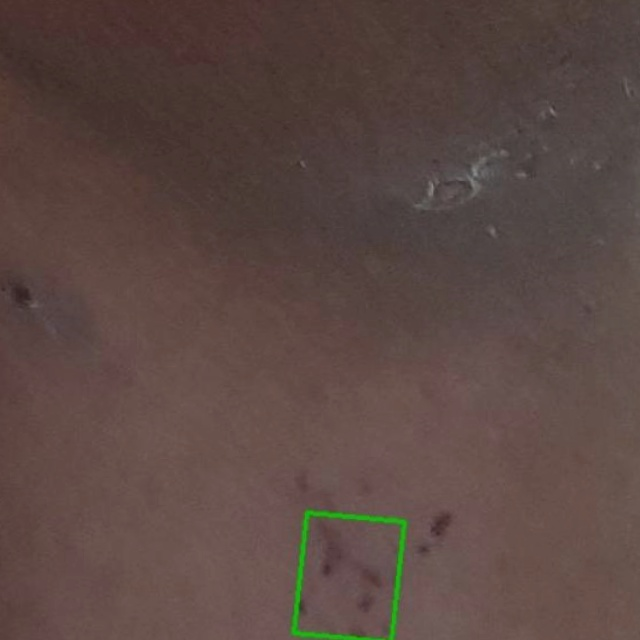Eczema: (293, 512, 403, 639)
